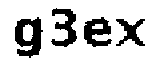3: (49, 6, 78, 51)
e: (82, 15, 113, 49)
g: (11, 18, 44, 60)
x: (116, 15, 147, 49)
